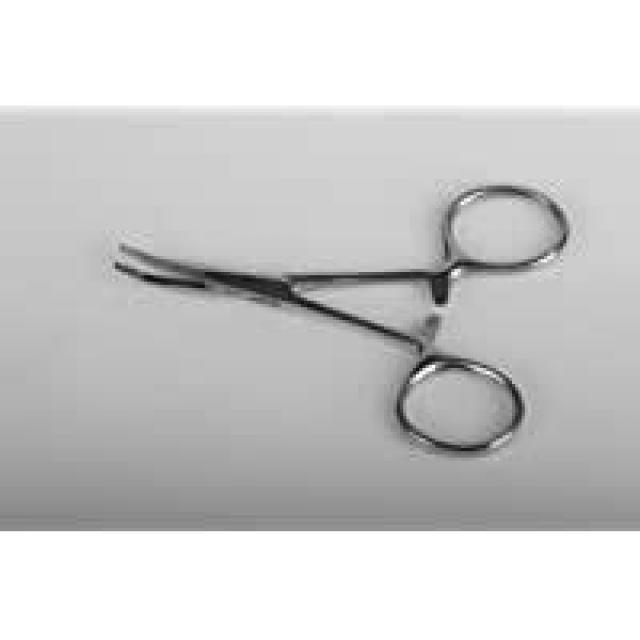Hemostat: (112, 179, 573, 461)
